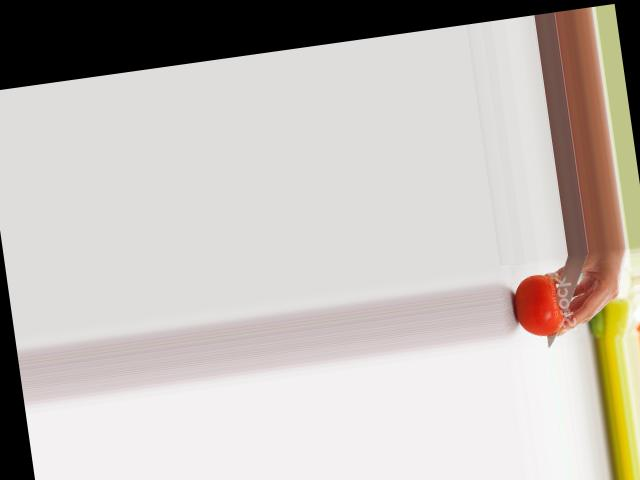tomato: (509, 270, 566, 339)
